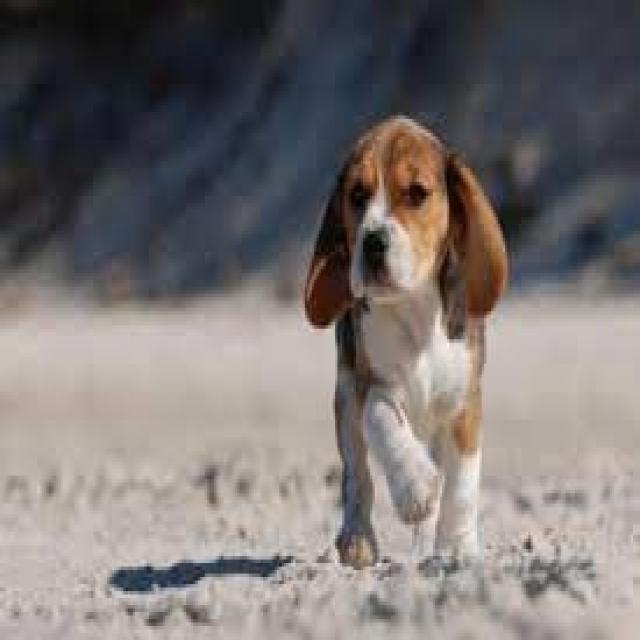Dog: (299, 110, 509, 572)
